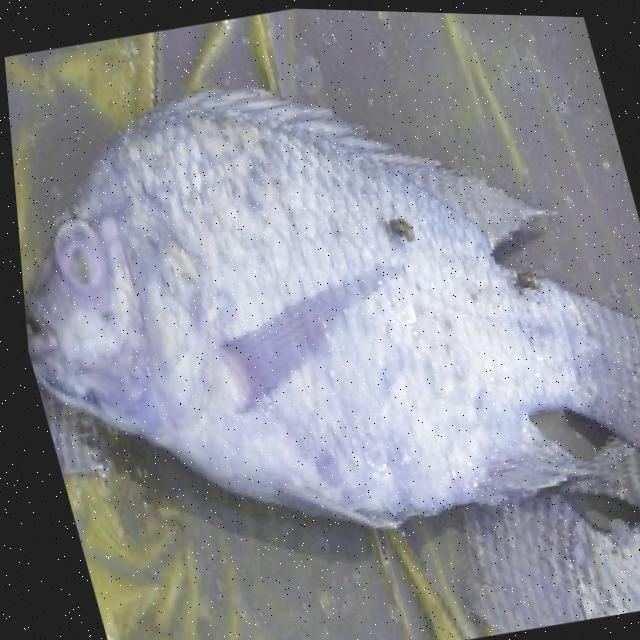Non-Fresh: (2, 32, 597, 574)
